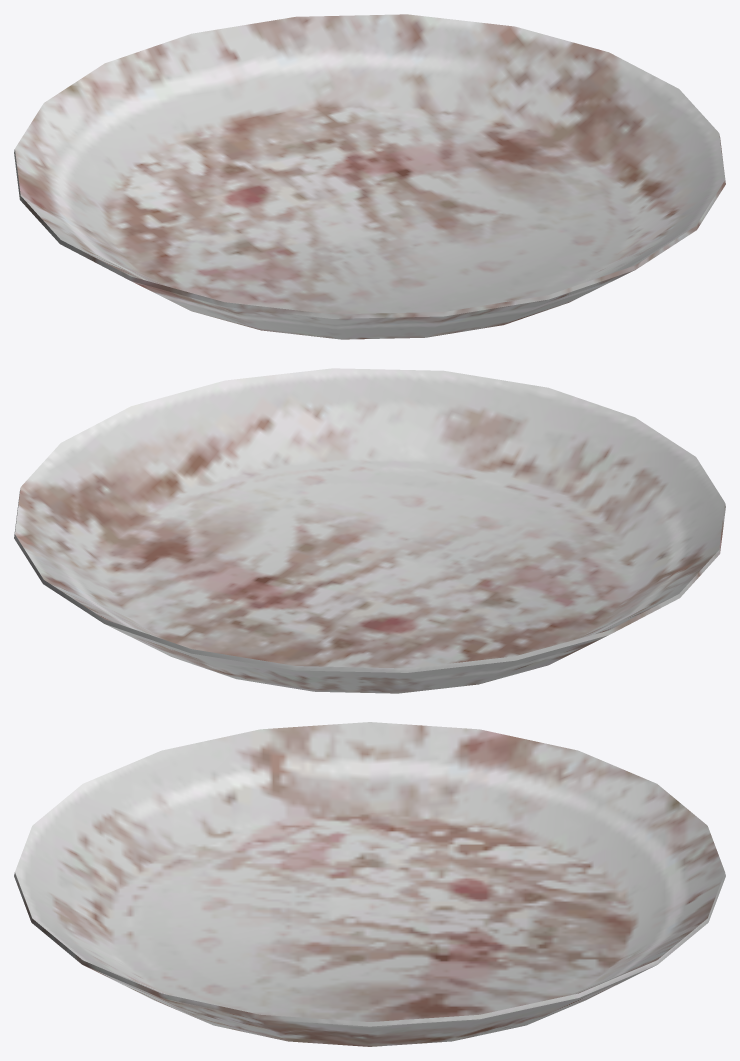
The model's file is SM_TrashScrapPlate_01_A.fbx.
3 views of the same model, one above another, from view 1: azimuth 30°, elevation 25°; view 2: azimuth 150°, elevation 25°; view 3: azimuth 270°, elevation 25° (orthographic).
Visible parts, largest first — view 1: SM_TrashScrapPlate_01_A; view 2: SM_TrashScrapPlate_01_A; view 3: SM_TrashScrapPlate_01_A.
Boxes of the visible parts, x1=… form: SM_TrashScrapPlate_01_A: x1=14, y1=14, x2=725, y2=339; SM_TrashScrapPlate_01_A: x1=14, y1=368, x2=725, y2=693; SM_TrashScrapPlate_01_A: x1=14, y1=722, x2=725, y2=1046.
Size of the model in its own units: 33.91 by 33.91 by 3.28.
Materials: 1 (1 with a texture image).
